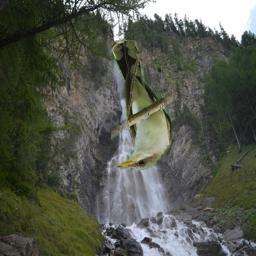Cuckoo: (111, 40, 172, 170)
